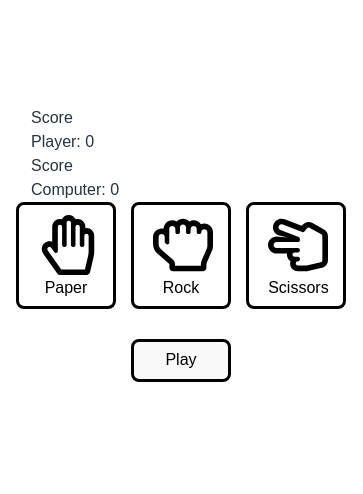
Test case: Results › shouldn't display shaking hands initially and should display shaking hands while timer is running
Step 1. Click the button "Rock" → (181, 256), box 131,202 -> 231,309
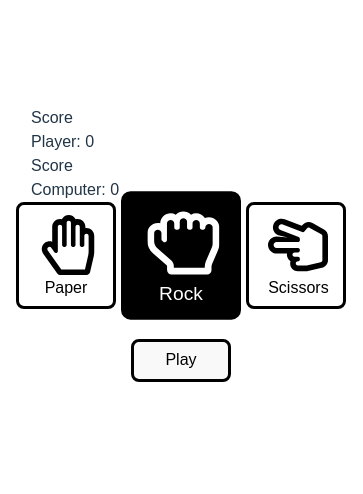
Step 2. Click the button "Play" → (181, 360), box 131,339 -> 231,382
Wait 2000 ms
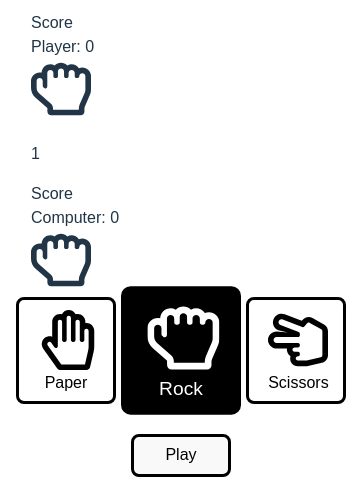
Result: the element with test id "playerShakingHand" is shown at 31,59 -> 91,119
Result: the element with test id "computerShakingHand" is shown at 31,230 -> 91,290
